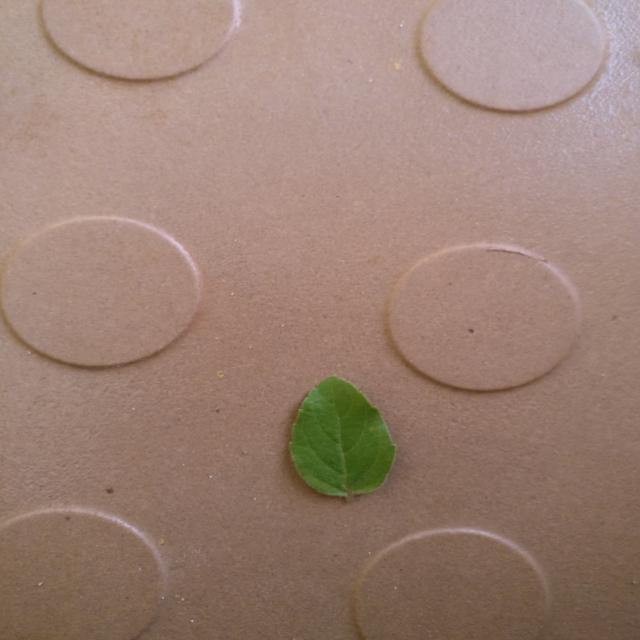tulsi: (290, 376, 395, 500)
